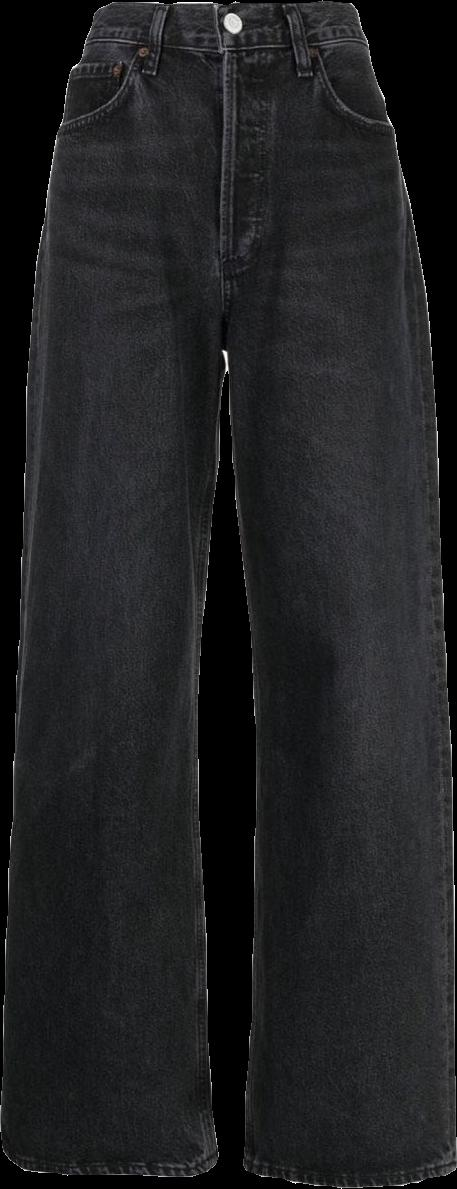Hemline: (0, 1147, 220, 1185), (241, 1155, 456, 1187)
Pantleg: (216, 0, 456, 1186), (1, 2, 223, 1176)
Waistline: (82, 28, 369, 53), (96, 0, 351, 17)
